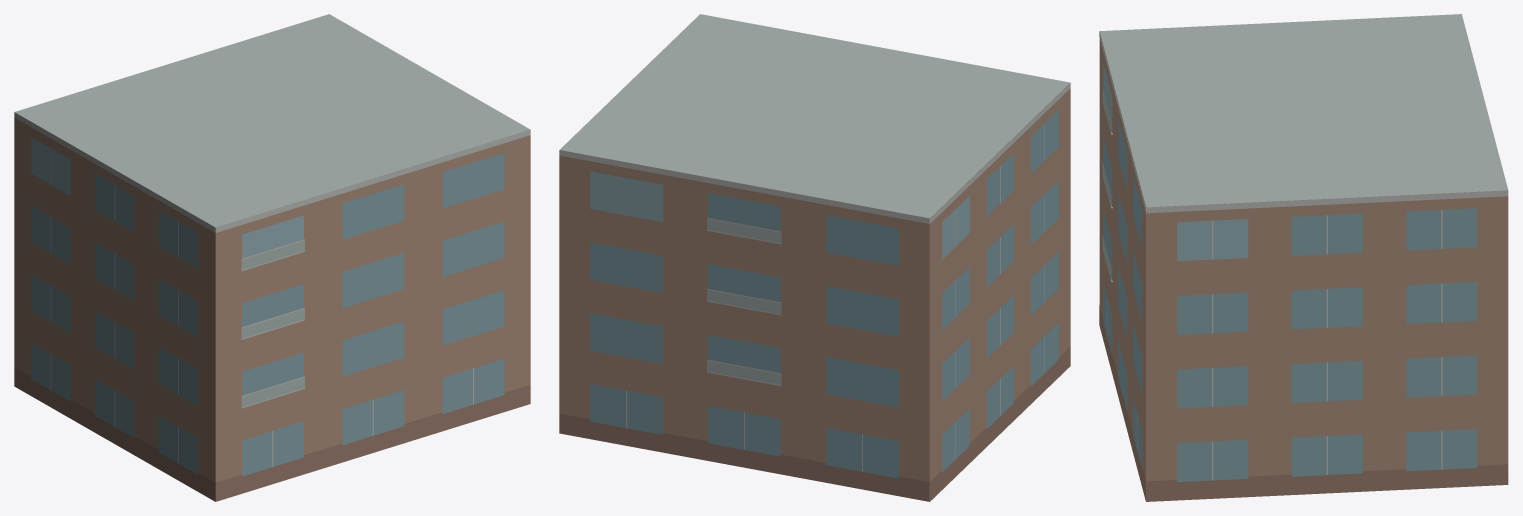
The model's file is residential-3f8d6333-6c8c-45e9-9304-aa8a6c6e73b5.glb.
The picture shows the model from 3 angles, left to right: view 1: azimuth 30°, elevation 25°; view 2: azimuth 150°, elevation 25°; view 3: azimuth 270°, elevation 25°; orthographic projection. The views are drawn at different scales.
Parts seen in each view (by area): view 1: residential-3f8d6333-6c8c-45e9-9304-aa8a6c6e73b5.tmp; view 2: residential-3f8d6333-6c8c-45e9-9304-aa8a6c6e73b5.tmp; view 3: residential-3f8d6333-6c8c-45e9-9304-aa8a6c6e73b5.tmp.
Boxes of the visible parts, x1=… form: residential-3f8d6333-6c8c-45e9-9304-aa8a6c6e73b5.tmp: x1=14, y1=14, x2=530, y2=501; residential-3f8d6333-6c8c-45e9-9304-aa8a6c6e73b5.tmp: x1=559, y1=14, x2=1070, y2=501; residential-3f8d6333-6c8c-45e9-9304-aa8a6c6e73b5.tmp: x1=1099, y1=14, x2=1508, y2=501.
Size of the model in its own units: 17.2 by 12.2 by 15.36.
